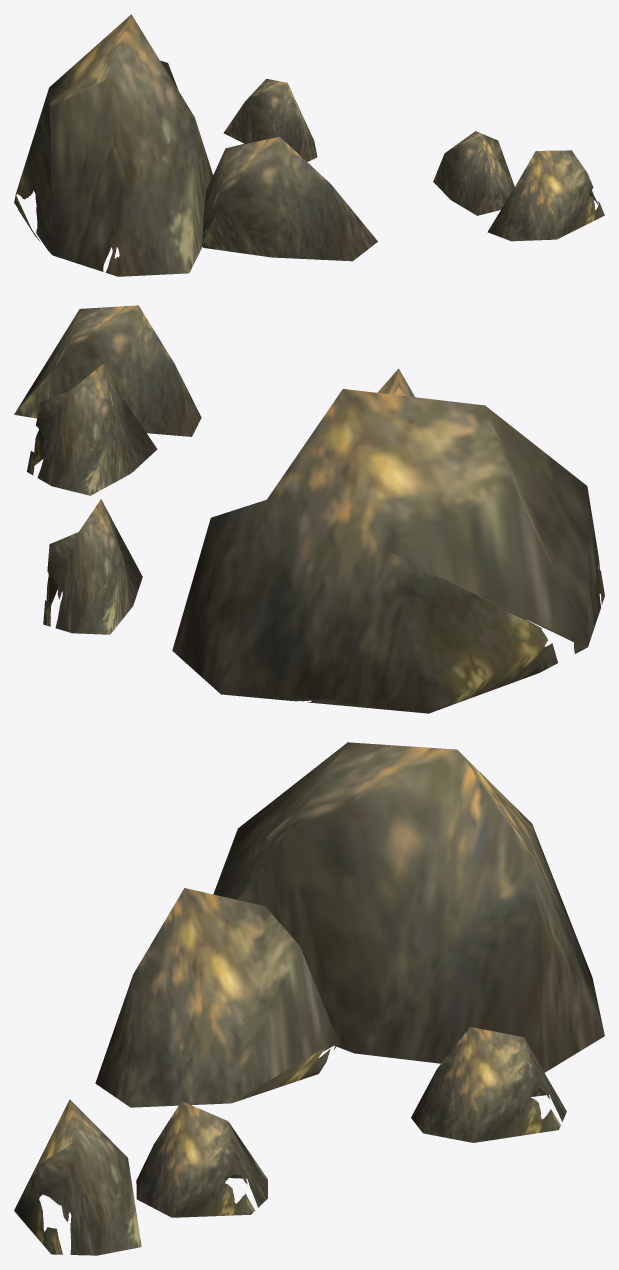
File: S_Build_West012.FBX
3 renders of one model, top to bottom at view 1: azimuth 30°, elevation 25°; view 2: azimuth 150°, elevation 25°; view 3: azimuth 270°, elevation 25°, orthographic. The views are drawn at different scales.
Visible parts, largest first — view 1: S_Build_West012; view 2: S_Build_West012; view 3: S_Build_West012.
Part boxes in pixels (left/top/right/bottom): S_Build_West012: left=14, top=14, right=604, bottom=276; S_Build_West012: left=14, top=305, right=604, bottom=713; S_Build_West012: left=14, top=742, right=604, bottom=1255.
Bounding box in the file's own units: 205 × 152 × 75.24.
